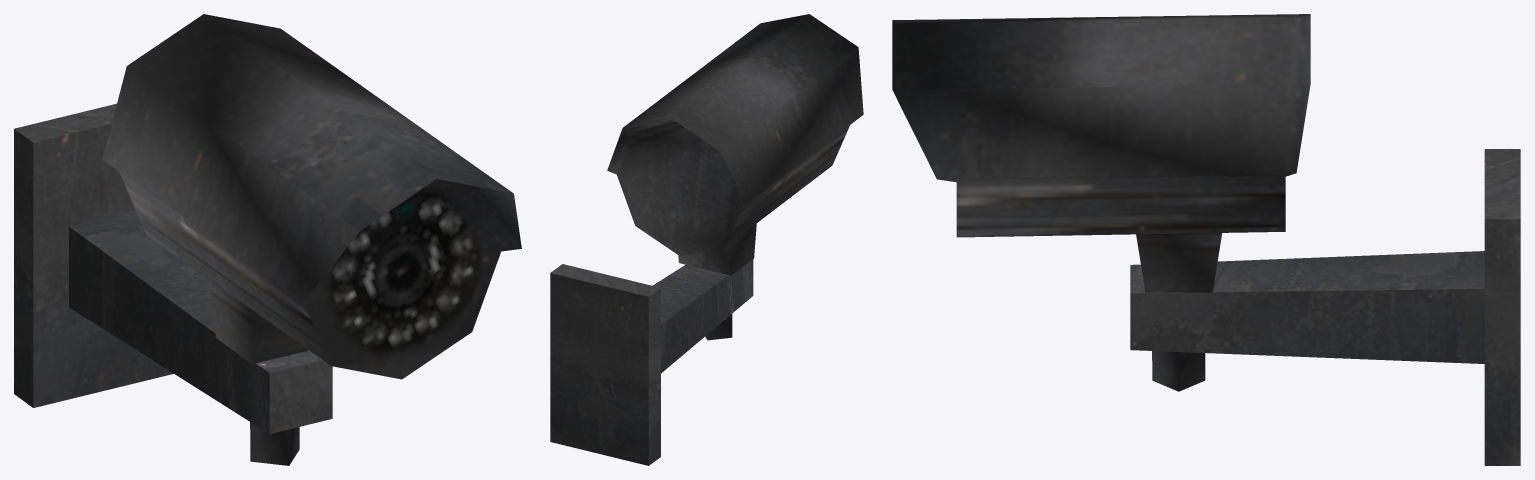
The model's file is camera_1.glb.
The picture shows the model from 3 angles, left to right: view 1: azimuth 30°, elevation 25°; view 2: azimuth 150°, elevation 25°; view 3: azimuth 270°, elevation 25°; orthographic projection. The views are drawn at different scales.
Visible parts, largest first — view 1: Camera_01.001_Camera_0.001; view 2: Camera_01.001_Camera_0.001; view 3: Camera_01.001_Camera_0.001.
Boxes of the visible parts, x1=… form: Camera_01.001_Camera_0.001: x1=14, y1=14, x2=521, y2=465; Camera_01.001_Camera_0.001: x1=550, y1=14, x2=863, y2=465; Camera_01.001_Camera_0.001: x1=892, y1=14, x2=1520, y2=465.
Bounding box in the file's own units: 0.2035 × 0.3817 × 0.5262.
Materials: 1 (1 with a texture image).
